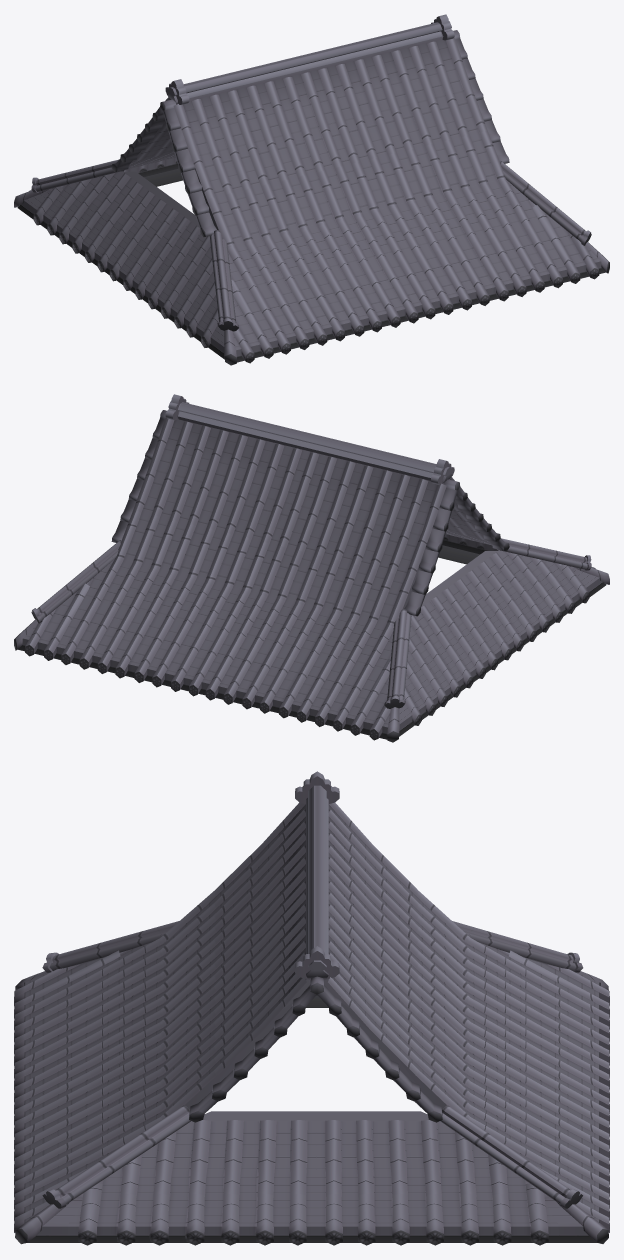
File: SK_Roof_002.FBX
3 renders of one model, top to bottom at view 1: azimuth 30°, elevation 25°; view 2: azimuth 150°, elevation 25°; view 3: azimuth 270°, elevation 25°, orthographic. The views are drawn at different scales.
Visible parts, largest first — view 1: SK_Roof_002; view 2: SK_Roof_002; view 3: SK_Roof_002.
Boxes of the visible parts, x1,y1,x2,y2 form: SK_Roof_002: [14, 14, 609, 365]; SK_Roof_002: [14, 394, 609, 742]; SK_Roof_002: [14, 771, 609, 1245].
Bounding box in the file's own units: 646 × 308 × 642.
